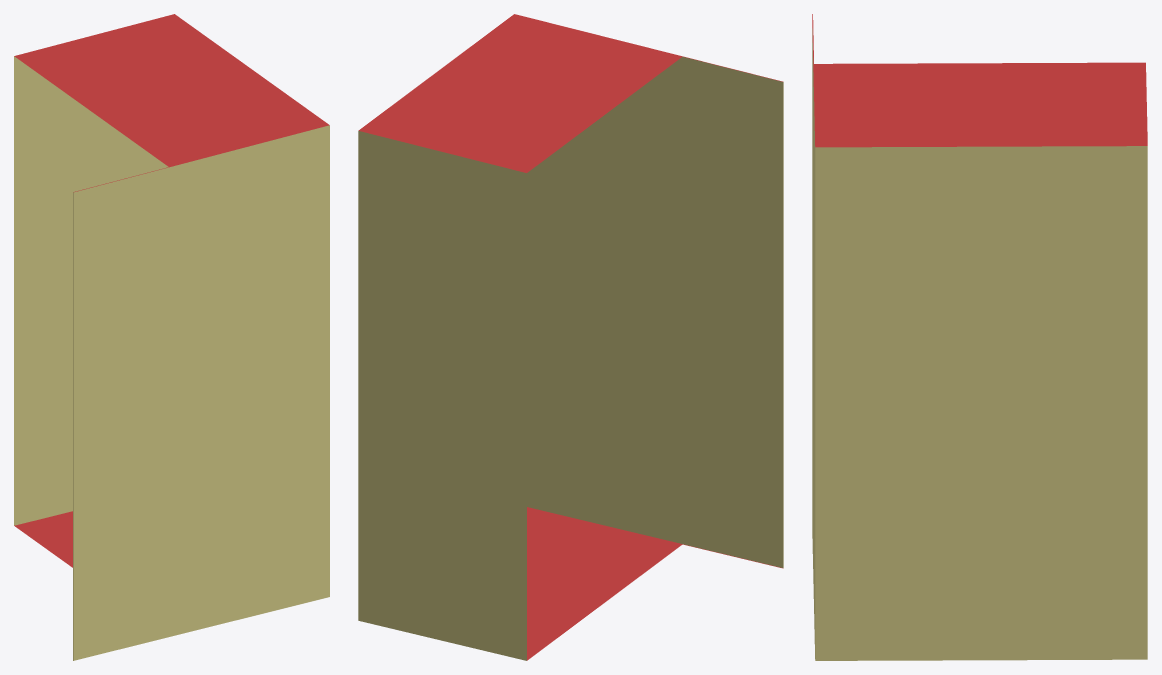
The picture shows the model from 3 angles, left to right: view 1: azimuth 30°, elevation 25°; view 2: azimuth 150°, elevation 25°; view 3: azimuth 270°, elevation 25°; orthographic projection. The views are drawn at different scales.
Visible parts, largest first — view 1: group_4, group_3, group_5; view 2: group_4, group_3, group_5; view 3: group_4, group_3.
Part boxes in pixels (x1,y1,x2,y2): group_4: (14, 56, 329, 660); group_3: (14, 14, 329, 192); group_5: (14, 511, 72, 567); group_4: (358, 56, 783, 660); group_3: (358, 14, 783, 172); group_5: (527, 507, 783, 660); group_4: (812, 28, 1147, 660); group_3: (812, 14, 1147, 147).
Bounding box in the file's own units: 5.25 × 5.44 × 9.18.
